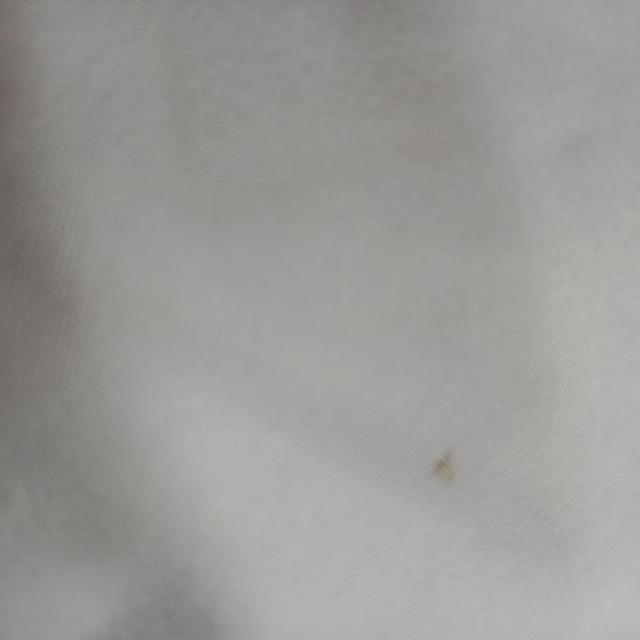stain: (419, 435, 477, 487)
